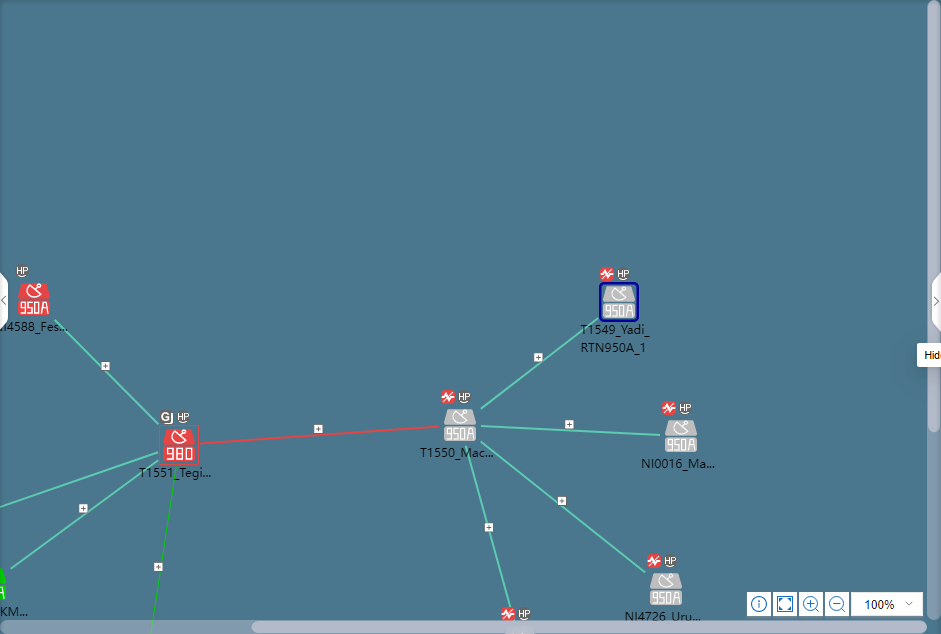Link_Blue: (479, 438, 648, 577), (9, 455, 157, 570), (479, 314, 601, 413), (56, 323, 157, 423), (3, 449, 160, 505), (462, 443, 510, 605), (535, 426, 659, 442)
Link_Green: (150, 467, 176, 617)
Link_Red: (197, 420, 441, 448)
RTN_Gray: (603, 285, 635, 324), (650, 573, 684, 607), (668, 420, 701, 454), (444, 408, 478, 441)
RTN_Red: (21, 285, 54, 318), (162, 432, 194, 466)
